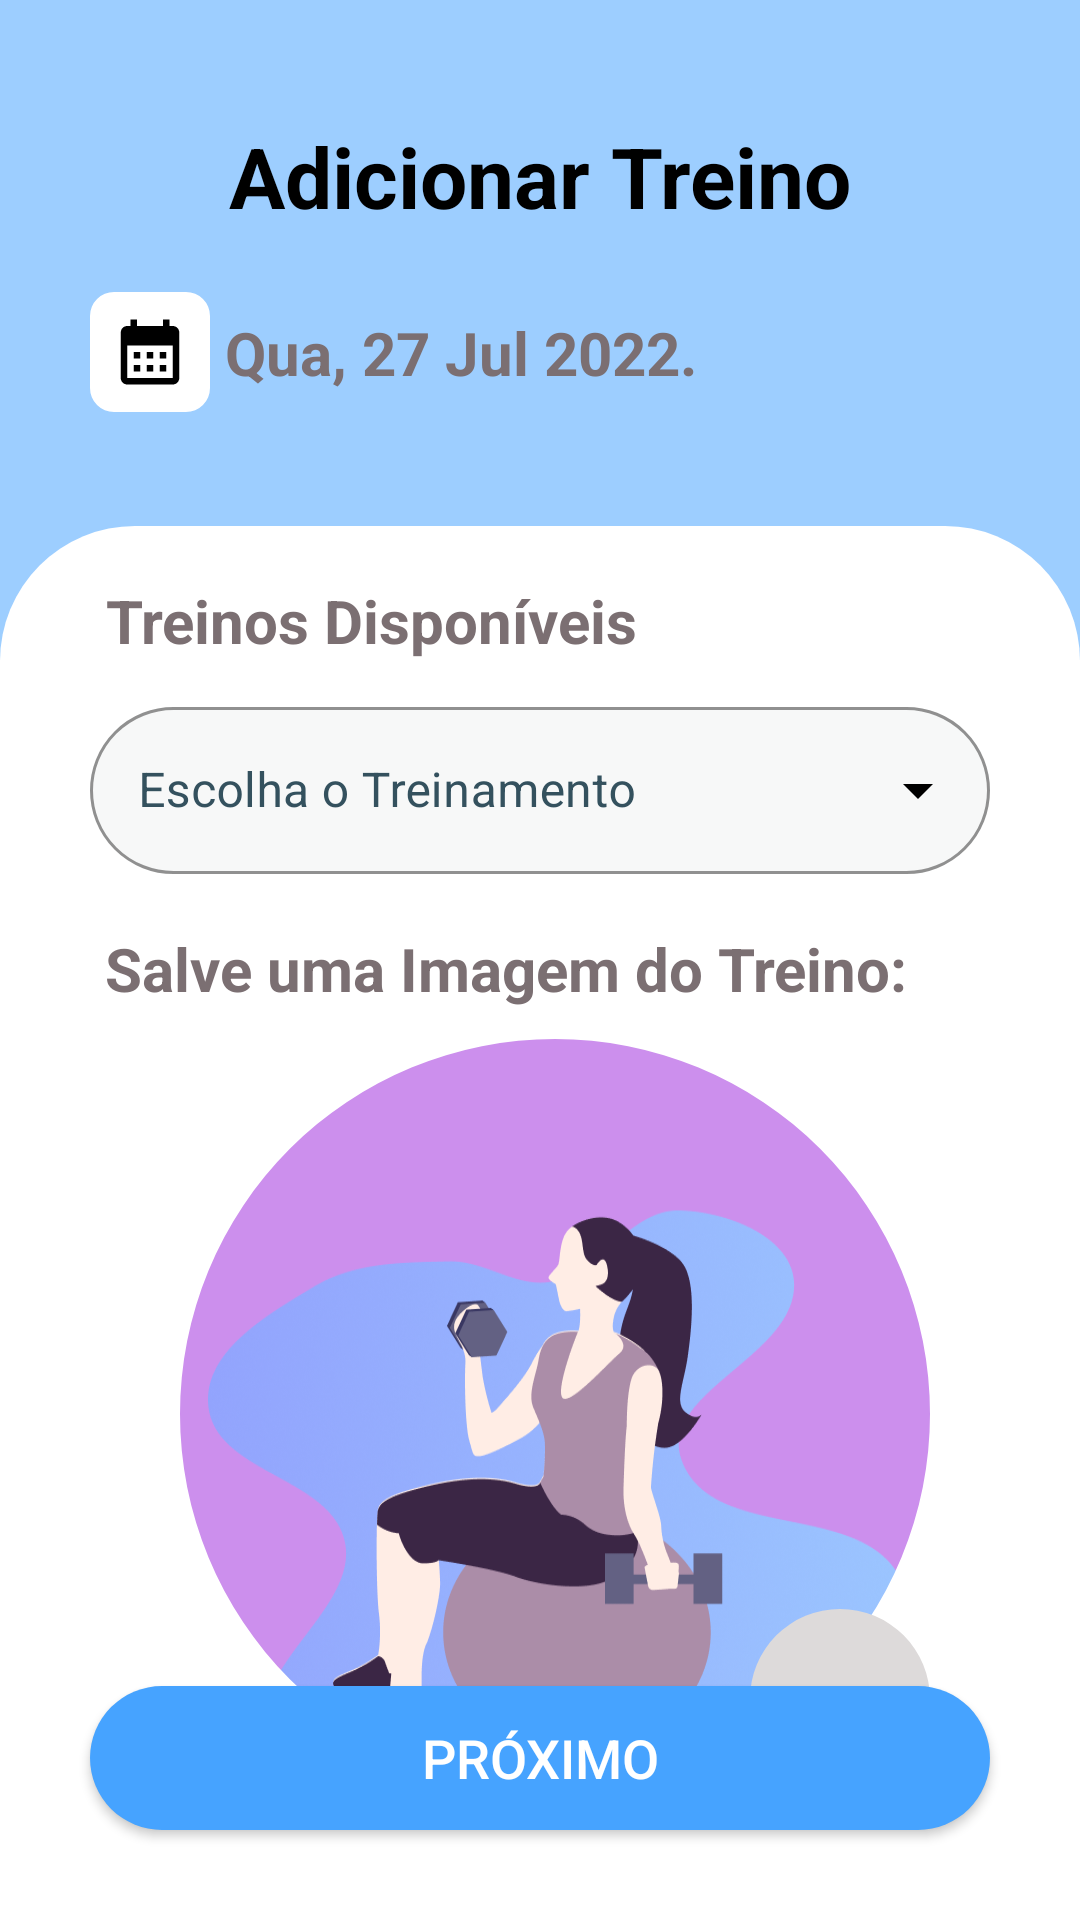

Icons on this 1080 × 1920 Android screen, each with the point to tap as point (x, y):
calendar: point (150, 352)
